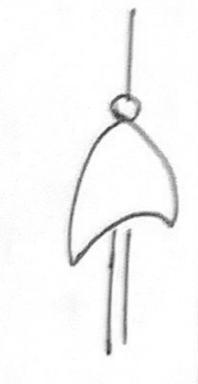NOR: (57, 75, 195, 269)
